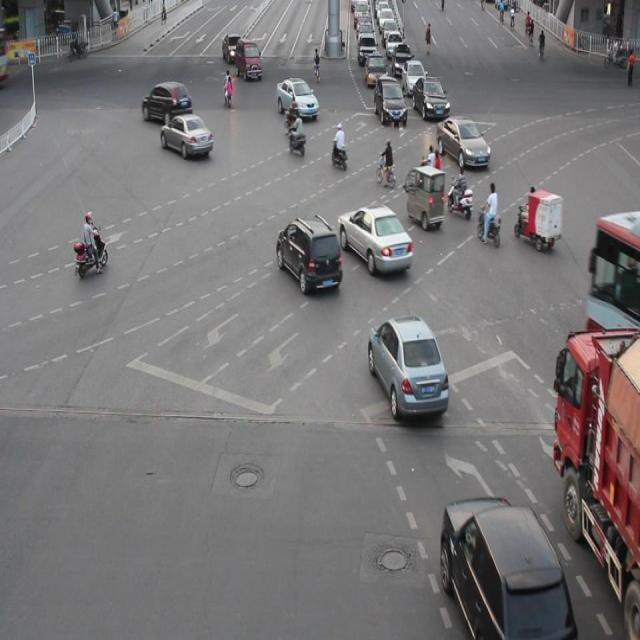bus: (552, 329, 640, 640)
car: (440, 492, 577, 640), (368, 314, 448, 420), (337, 202, 412, 274), (275, 213, 342, 293), (437, 116, 490, 170), (162, 111, 214, 159), (140, 79, 193, 125)
van: (584, 214, 640, 355)
